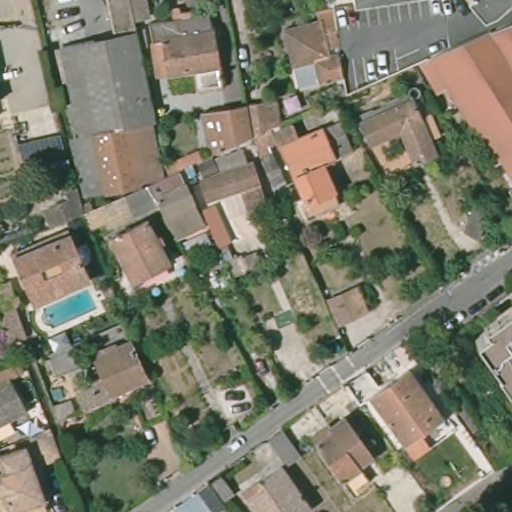pool: (35, 289, 99, 332)
